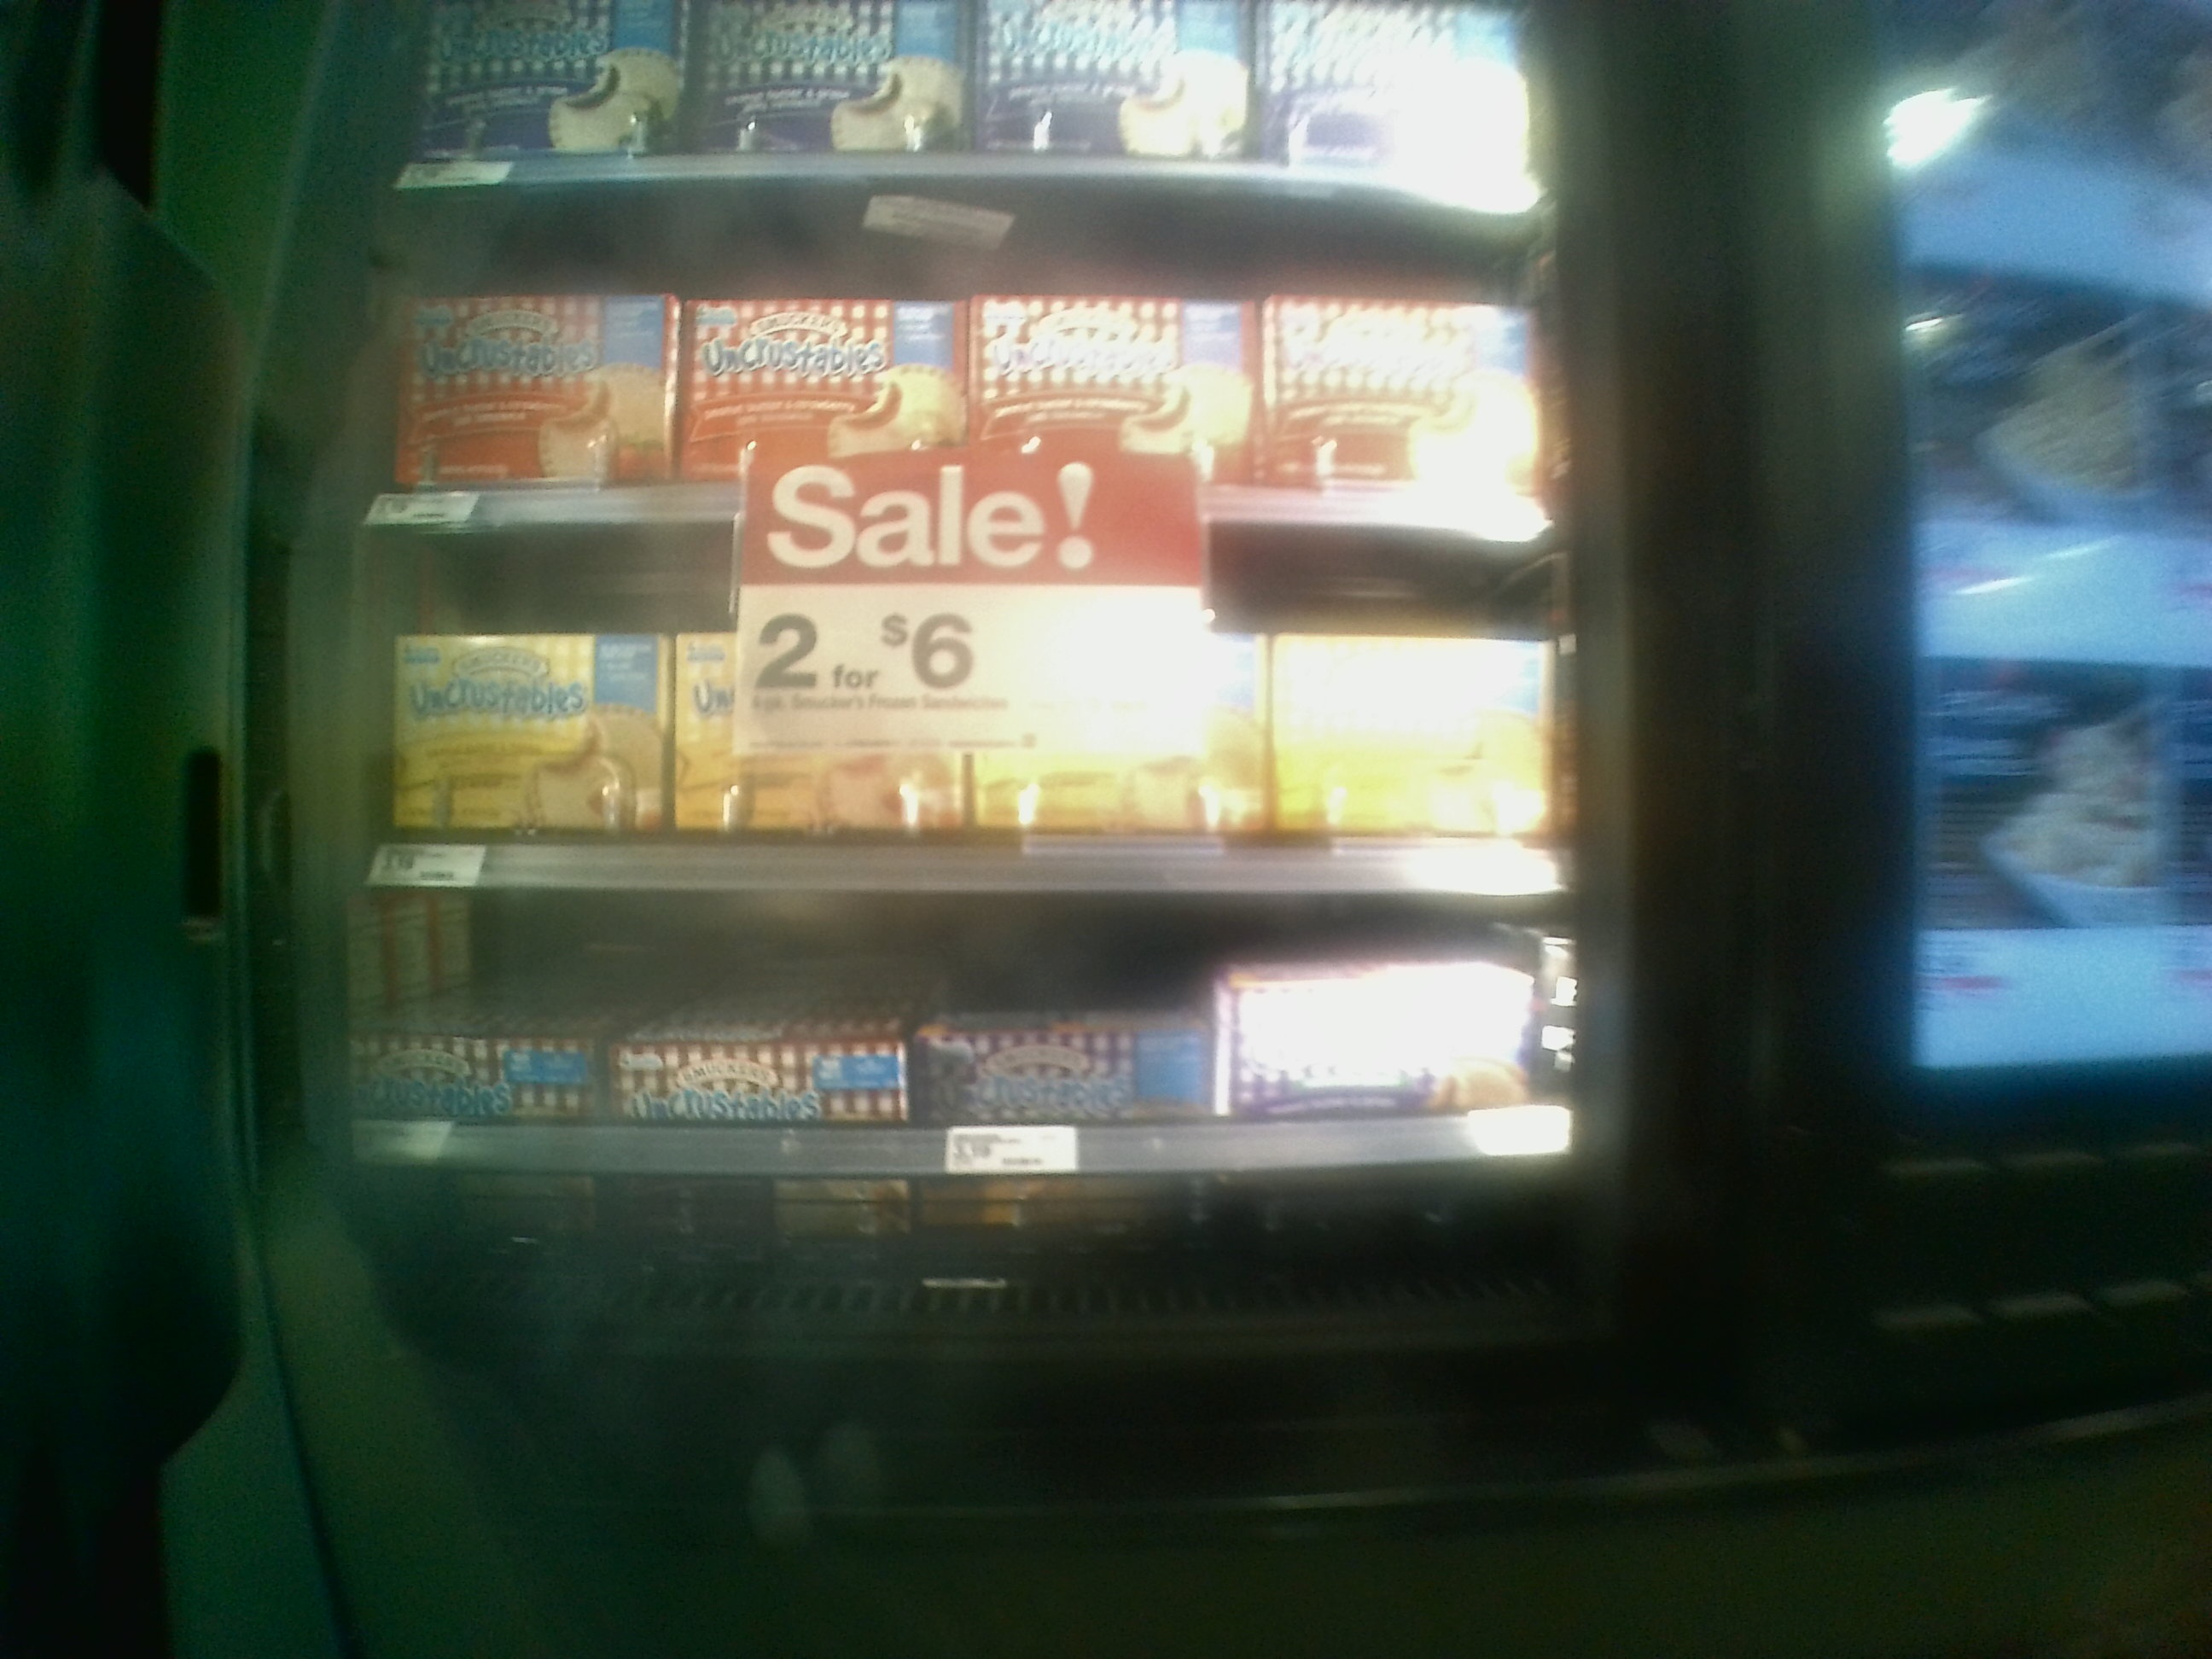shelf: (341, 889, 1608, 1283), (350, 547, 1581, 901), (369, 186, 1569, 545)
